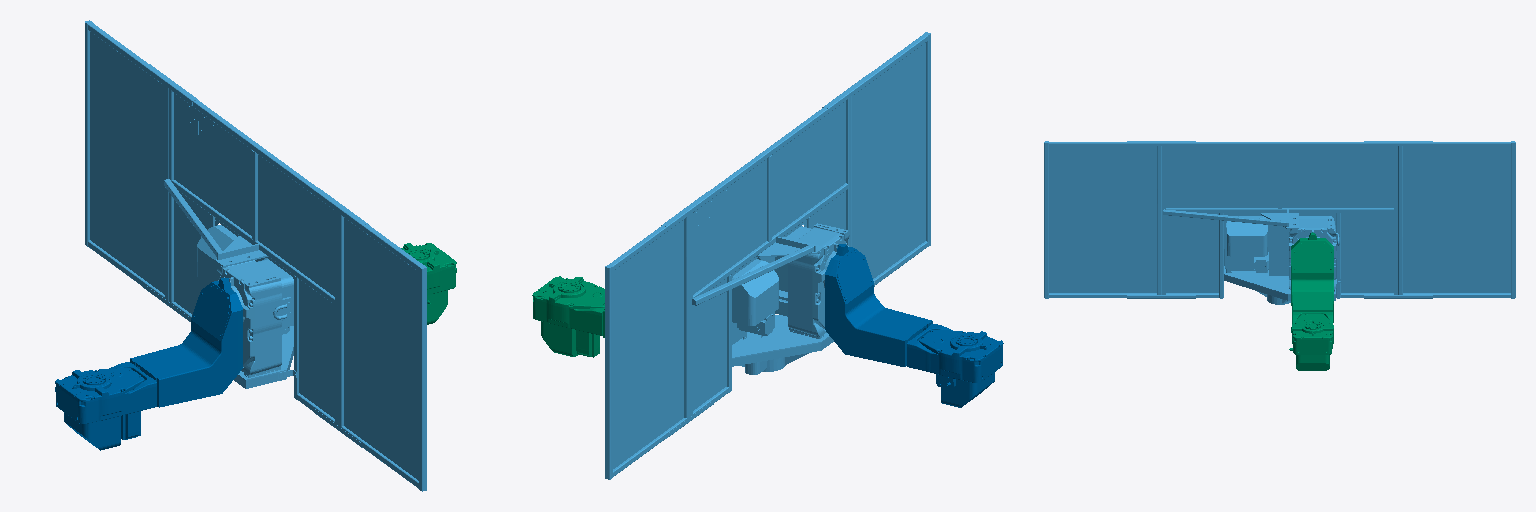
The robot description file, URDF, robot "Irbpb_750_D1450":
<?xml version="1.0" ?>
<robot name="Irbpb_750_D1450">

<link name="base_link">
  <inertial>
    <origin xyz="1.2220238746065277 0.2878722701066042 0.21441615376360967" rpy="0 0 0"/>
    <mass value="1310.5292686537296"/>
    <inertia ixx="51.101771" iyy="82.104533" izz="91.002161" ixy="-0.063507" iyz="-0.013079" ixz="-0.950218"/>
  </inertial>
  <visual>
    <origin xyz="0 0 0" rpy="0 0 0"/>
    <geometry>
      <mesh filename="meshes/base_link.stl" scale="0.001 0.001 0.001"/>
    </geometry>
  </visual>
  <collision>
    <origin xyz="0 0 0" rpy="0 0 0"/>
    <geometry>
      <mesh filename="meshes/base_link.stl" scale="0.001 0.001 0.001"/>
    </geometry>
  </collision>
</link>

<link name="Irbpb_750_D1450_IRC5_rev02_Turntable750B_CAD_1">
  <inertial>
    <origin xyz="0.00012299746507782316 0.001527973886110645 0.5577259057600324" rpy="0 0 0"/>
    <mass value="1938.1969728782942"/>
    <inertia ixx="823.496369" iyy="230.871329" izz="703.128226" ixy="-56.14157" iyz="1.351869" ixz="0.102413"/>
  </inertial>
  <visual>
    <origin xyz="-1.31 -0.287995 -0.481" rpy="0 0 0"/>
    <geometry>
      <mesh filename="meshes/Irbpb_750_D1450_IRC5_rev02_Turntable750B_CAD_1.stl" scale="0.001 0.001 0.001"/>
    </geometry>
  </visual>
  <collision>
    <origin xyz="-1.31 -0.287995 -0.481" rpy="0 0 0"/>
    <geometry>
      <mesh filename="meshes/Irbpb_750_D1450_IRC5_rev02_Turntable750B_CAD_1.stl" scale="0.001 0.001 0.001"/>
    </geometry>
  </collision>
</link>

<link name="Irbpb_750_D1450_IRC5_rev02_arm750AB_CAD_1">
  <inertial>
    <origin xyz="0.7125104505240922 0.0032798500812573073 -0.3647933186231007" rpy="0 0 0"/>
    <mass value="519.3032645784656"/>
    <inertia ixx="22.626406" iyy="78.303916" izz="66.64645" ixy="-0.043181" iyz="0.336" ixz="25.248478"/>
  </inertial>
  <visual>
    <origin xyz="-1.673 -0.575995 -1.1" rpy="0 0 0"/>
    <geometry>
      <mesh filename="meshes/Irbpb_750_D1450_IRC5_rev02_arm750AB_CAD_1.stl" scale="0.001 0.001 0.001"/>
    </geometry>
  </visual>
  <collision>
    <origin xyz="-1.673 -0.575995 -1.1" rpy="0 0 0"/>
    <geometry>
      <mesh filename="meshes/Irbpb_750_D1450_IRC5_rev02_arm750AB_CAD_1.stl" scale="0.001 0.001 0.001"/>
    </geometry>
  </collision>
</link>

<link name="Irbpb_750_D1450_IRC5_rev02_platter_d450_CAD_1">
  <inertial>
    <origin xyz="0.001112486430053572 4.393370914845818e-07 0.044867865424758735" rpy="0 0 0"/>
    <mass value="21.25030383337227"/>
    <inertia ixx="0.228504" iyy="0.231342" izz="0.446816" ixy="0.0" iyz="-0.0" ixz="0.000583"/>
  </inertial>
  <visual>
    <origin xyz="-2.62 -0.57599 -0.8365" rpy="0 0 0"/>
    <geometry>
      <mesh filename="meshes/Irbpb_750_D1450_IRC5_rev02_platter_d450_CAD_1.stl" scale="0.001 0.001 0.001"/>
    </geometry>
  </visual>
  <collision>
    <origin xyz="-2.62 -0.57599 -0.8365" rpy="0 0 0"/>
    <geometry>
      <mesh filename="meshes/Irbpb_750_D1450_IRC5_rev02_platter_d450_CAD_1.stl" scale="0.001 0.001 0.001"/>
    </geometry>
  </collision>
</link>

<link name="Irbpb_750_D1450_IRC5_rev02_arm750AB_CAD_2">
  <inertial>
    <origin xyz="-0.7125104505241117 -0.003279410744182416 -0.3647933186230826" rpy="0 0 0"/>
    <mass value="519.3032645784656"/>
    <inertia ixx="22.626406" iyy="78.303916" izz="66.64645" ixy="-0.043181" iyz="-0.336" ixz="-25.248478"/>
  </inertial>
  <visual>
    <origin xyz="-0.947 5e-06 -1.1" rpy="0 0 0"/>
    <geometry>
      <mesh filename="meshes/Irbpb_750_D1450_IRC5_rev02_arm750AB_CAD_2.stl" scale="0.001 0.001 0.001"/>
    </geometry>
  </visual>
  <collision>
    <origin xyz="-0.947 5e-06 -1.1" rpy="0 0 0"/>
    <geometry>
      <mesh filename="meshes/Irbpb_750_D1450_IRC5_rev02_arm750AB_CAD_2.stl" scale="0.001 0.001 0.001"/>
    </geometry>
  </collision>
</link>

<link name="Irbpb_750_D1450_IRC5_rev02_platter_d450_CAD_2">
  <inertial>
    <origin xyz="-0.0011124864300715704 -1.4891614808044477e-15 0.04356786542477997" rpy="0 0 0"/>
    <mass value="21.25030383337227"/>
    <inertia ixx="0.228504" iyy="0.231342" izz="0.446816" ixy="0.0" iyz="0.0" ixz="-0.000583"/>
  </inertial>
  <visual>
    <origin xyz="0.0 0.0 -0.8378" rpy="0 0 0"/>
    <geometry>
      <mesh filename="meshes/Irbpb_750_D1450_IRC5_rev02_platter_d450_CAD_2.stl" scale="0.001 0.001 0.001"/>
    </geometry>
  </visual>
  <collision>
    <origin xyz="0.0 0.0 -0.8378" rpy="0 0 0"/>
    <geometry>
      <mesh filename="meshes/Irbpb_750_D1450_IRC5_rev02_platter_d450_CAD_2.stl" scale="0.001 0.001 0.001"/>
    </geometry>
  </collision>
</link>

<joint name="j1" type="continuous">
  <origin xyz="1.31 0.287995 0.481" rpy="0 0 0"/>
  <parent link="base_link"/>
  <child link="Irbpb_750_D1450_IRC5_rev02_Turntable750B_CAD_1"/>
  <axis xyz="-0.0 -0.0 -1.0"/>
</joint>

<joint name="j2" type="continuous">
  <origin xyz="0.363 0.288 0.619" rpy="0 0 0"/>
  <parent link="Irbpb_750_D1450_IRC5_rev02_Turntable750B_CAD_1"/>
  <child link="Irbpb_750_D1450_IRC5_rev02_arm750AB_CAD_1"/>
  <axis xyz="1.0 0.0 0.0"/>
</joint>

<joint name="j3" type="continuous">
  <origin xyz="0.947 -5e-06 -0.2635" rpy="0 0 0"/>
  <parent link="Irbpb_750_D1450_IRC5_rev02_arm750AB_CAD_1"/>
  <child link="Irbpb_750_D1450_IRC5_rev02_platter_d450_CAD_1"/>
  <axis xyz="-0.0 0.0 1.0"/>
</joint>

<joint name="j4" type="continuous">
  <origin xyz="-0.363 -0.288 0.619" rpy="0 0 0"/>
  <parent link="Irbpb_750_D1450_IRC5_rev02_Turntable750B_CAD_1"/>
  <child link="Irbpb_750_D1450_IRC5_rev02_arm750AB_CAD_2"/>
  <axis xyz="-1.0 -0.0 0.0"/>
</joint>

<joint name="j5" type="continuous">
  <origin xyz="-0.947 5e-06 -0.2622" rpy="0 0 0"/>
  <parent link="Irbpb_750_D1450_IRC5_rev02_arm750AB_CAD_2"/>
  <child link="Irbpb_750_D1450_IRC5_rev02_platter_d450_CAD_2"/>
  <axis xyz="-0.0 0.0 -1.0"/>
</joint>

</robot>

--- Render facts (derived) ---
3 views of the same robot in one strip: view 1: azimuth 30°, elevation 25°; view 2: azimuth 150°, elevation 25°; view 3: azimuth 270°, elevation 25° (orthographic).
Robot: Irbpb_750_D1450 — 6 links, 5 joints (5 continuous); root link base_link; default pose: every joint at zero.
Links seen in each view (by area): view 1: Irbpb_750_D1450_IRC5_rev02_Turntable750B_CAD_1, Irbpb_750_D1450_IRC5_rev02_arm750AB_CAD_2, Irbpb_750_D1450_IRC5_rev02_arm750AB_CAD_1; view 2: Irbpb_750_D1450_IRC5_rev02_Turntable750B_CAD_1, Irbpb_750_D1450_IRC5_rev02_arm750AB_CAD_2, Irbpb_750_D1450_IRC5_rev02_arm750AB_CAD_1; view 3: Irbpb_750_D1450_IRC5_rev02_Turntable750B_CAD_1, Irbpb_750_D1450_IRC5_rev02_arm750AB_CAD_1.
Boxes of the visible links, left/top/right/bottom form: Irbpb_750_D1450_IRC5_rev02_Turntable750B_CAD_1: left=85, top=20, right=426, bottom=491; Irbpb_750_D1450_IRC5_rev02_arm750AB_CAD_2: left=55, top=278, right=242, bottom=450; Irbpb_750_D1450_IRC5_rev02_arm750AB_CAD_1: left=401, top=243, right=456, bottom=324; Irbpb_750_D1450_IRC5_rev02_Turntable750B_CAD_1: left=605, top=32, right=930, bottom=479; Irbpb_750_D1450_IRC5_rev02_arm750AB_CAD_2: left=825, top=244, right=1003, bottom=407; Irbpb_750_D1450_IRC5_rev02_arm750AB_CAD_1: left=532, top=276, right=604, bottom=357; Irbpb_750_D1450_IRC5_rev02_Turntable750B_CAD_1: left=1044, top=141, right=1515, bottom=304; Irbpb_750_D1450_IRC5_rev02_arm750AB_CAD_1: left=1289, top=232, right=1333, bottom=370.
Size in the robot's own frame: 3 by 4.13 by 1.59 metres.
Meshes: 6 distinct files referenced, 3 mesh visuals loaded (3 binary STL); not drawn: 3 (reference not matched to a file when rendering).